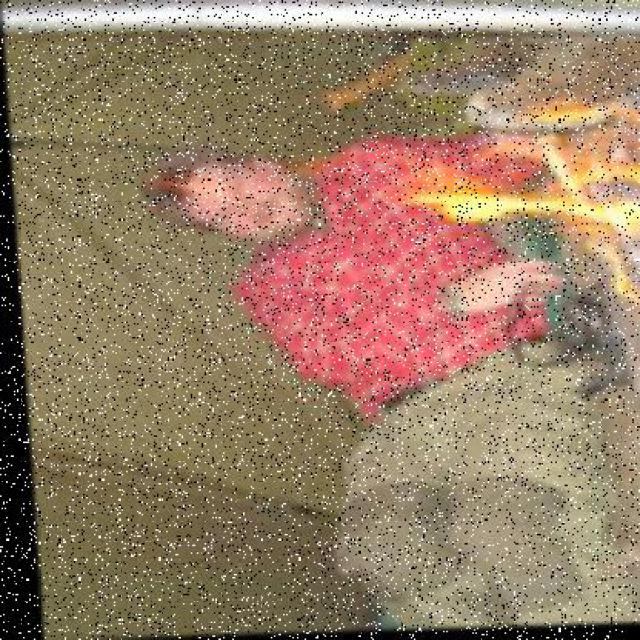fire: (407, 100, 640, 286)
